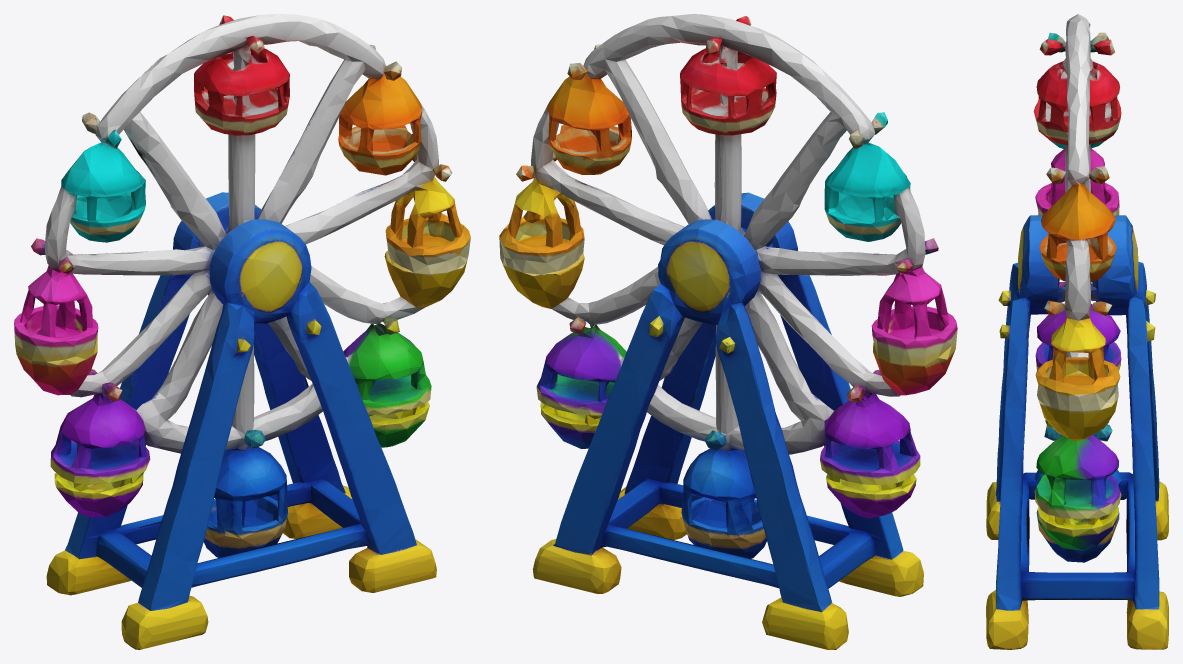
The model's file is ferris_wheel.glb.
The picture shows the model from 3 angles, left to right: view 1: azimuth 30°, elevation 25°; view 2: azimuth 150°, elevation 25°; view 3: azimuth 270°, elevation 25°; orthographic projection. The views are drawn at different scales.
Visible parts, largest first — view 1: geometry_0; view 2: geometry_0; view 3: geometry_0.
Part boxes in pixels (<box>): geometry_0: <box>14,14,470,649</box>; geometry_0: <box>499,14,957,649</box>; geometry_0: <box>986,14,1168,649</box>.
Size of the model in its own units: 0.8306 by 1 by 0.3043.
Materials: 1 (1 with a texture image).
